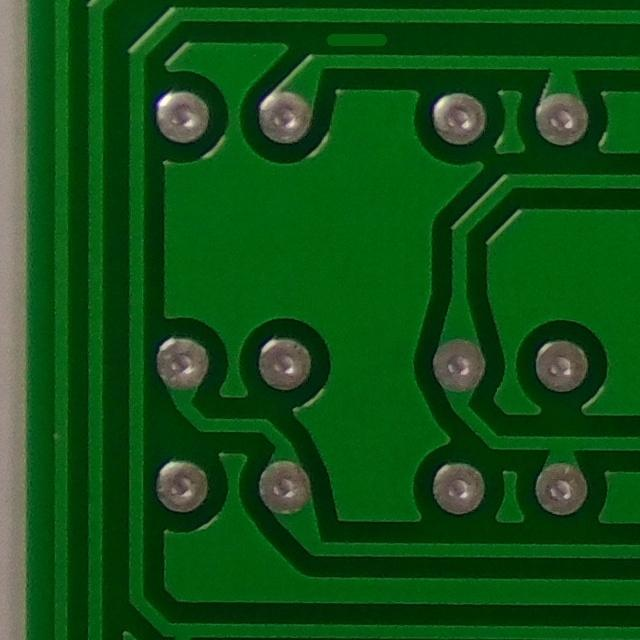spurious_copper: (311, 12, 395, 64)
